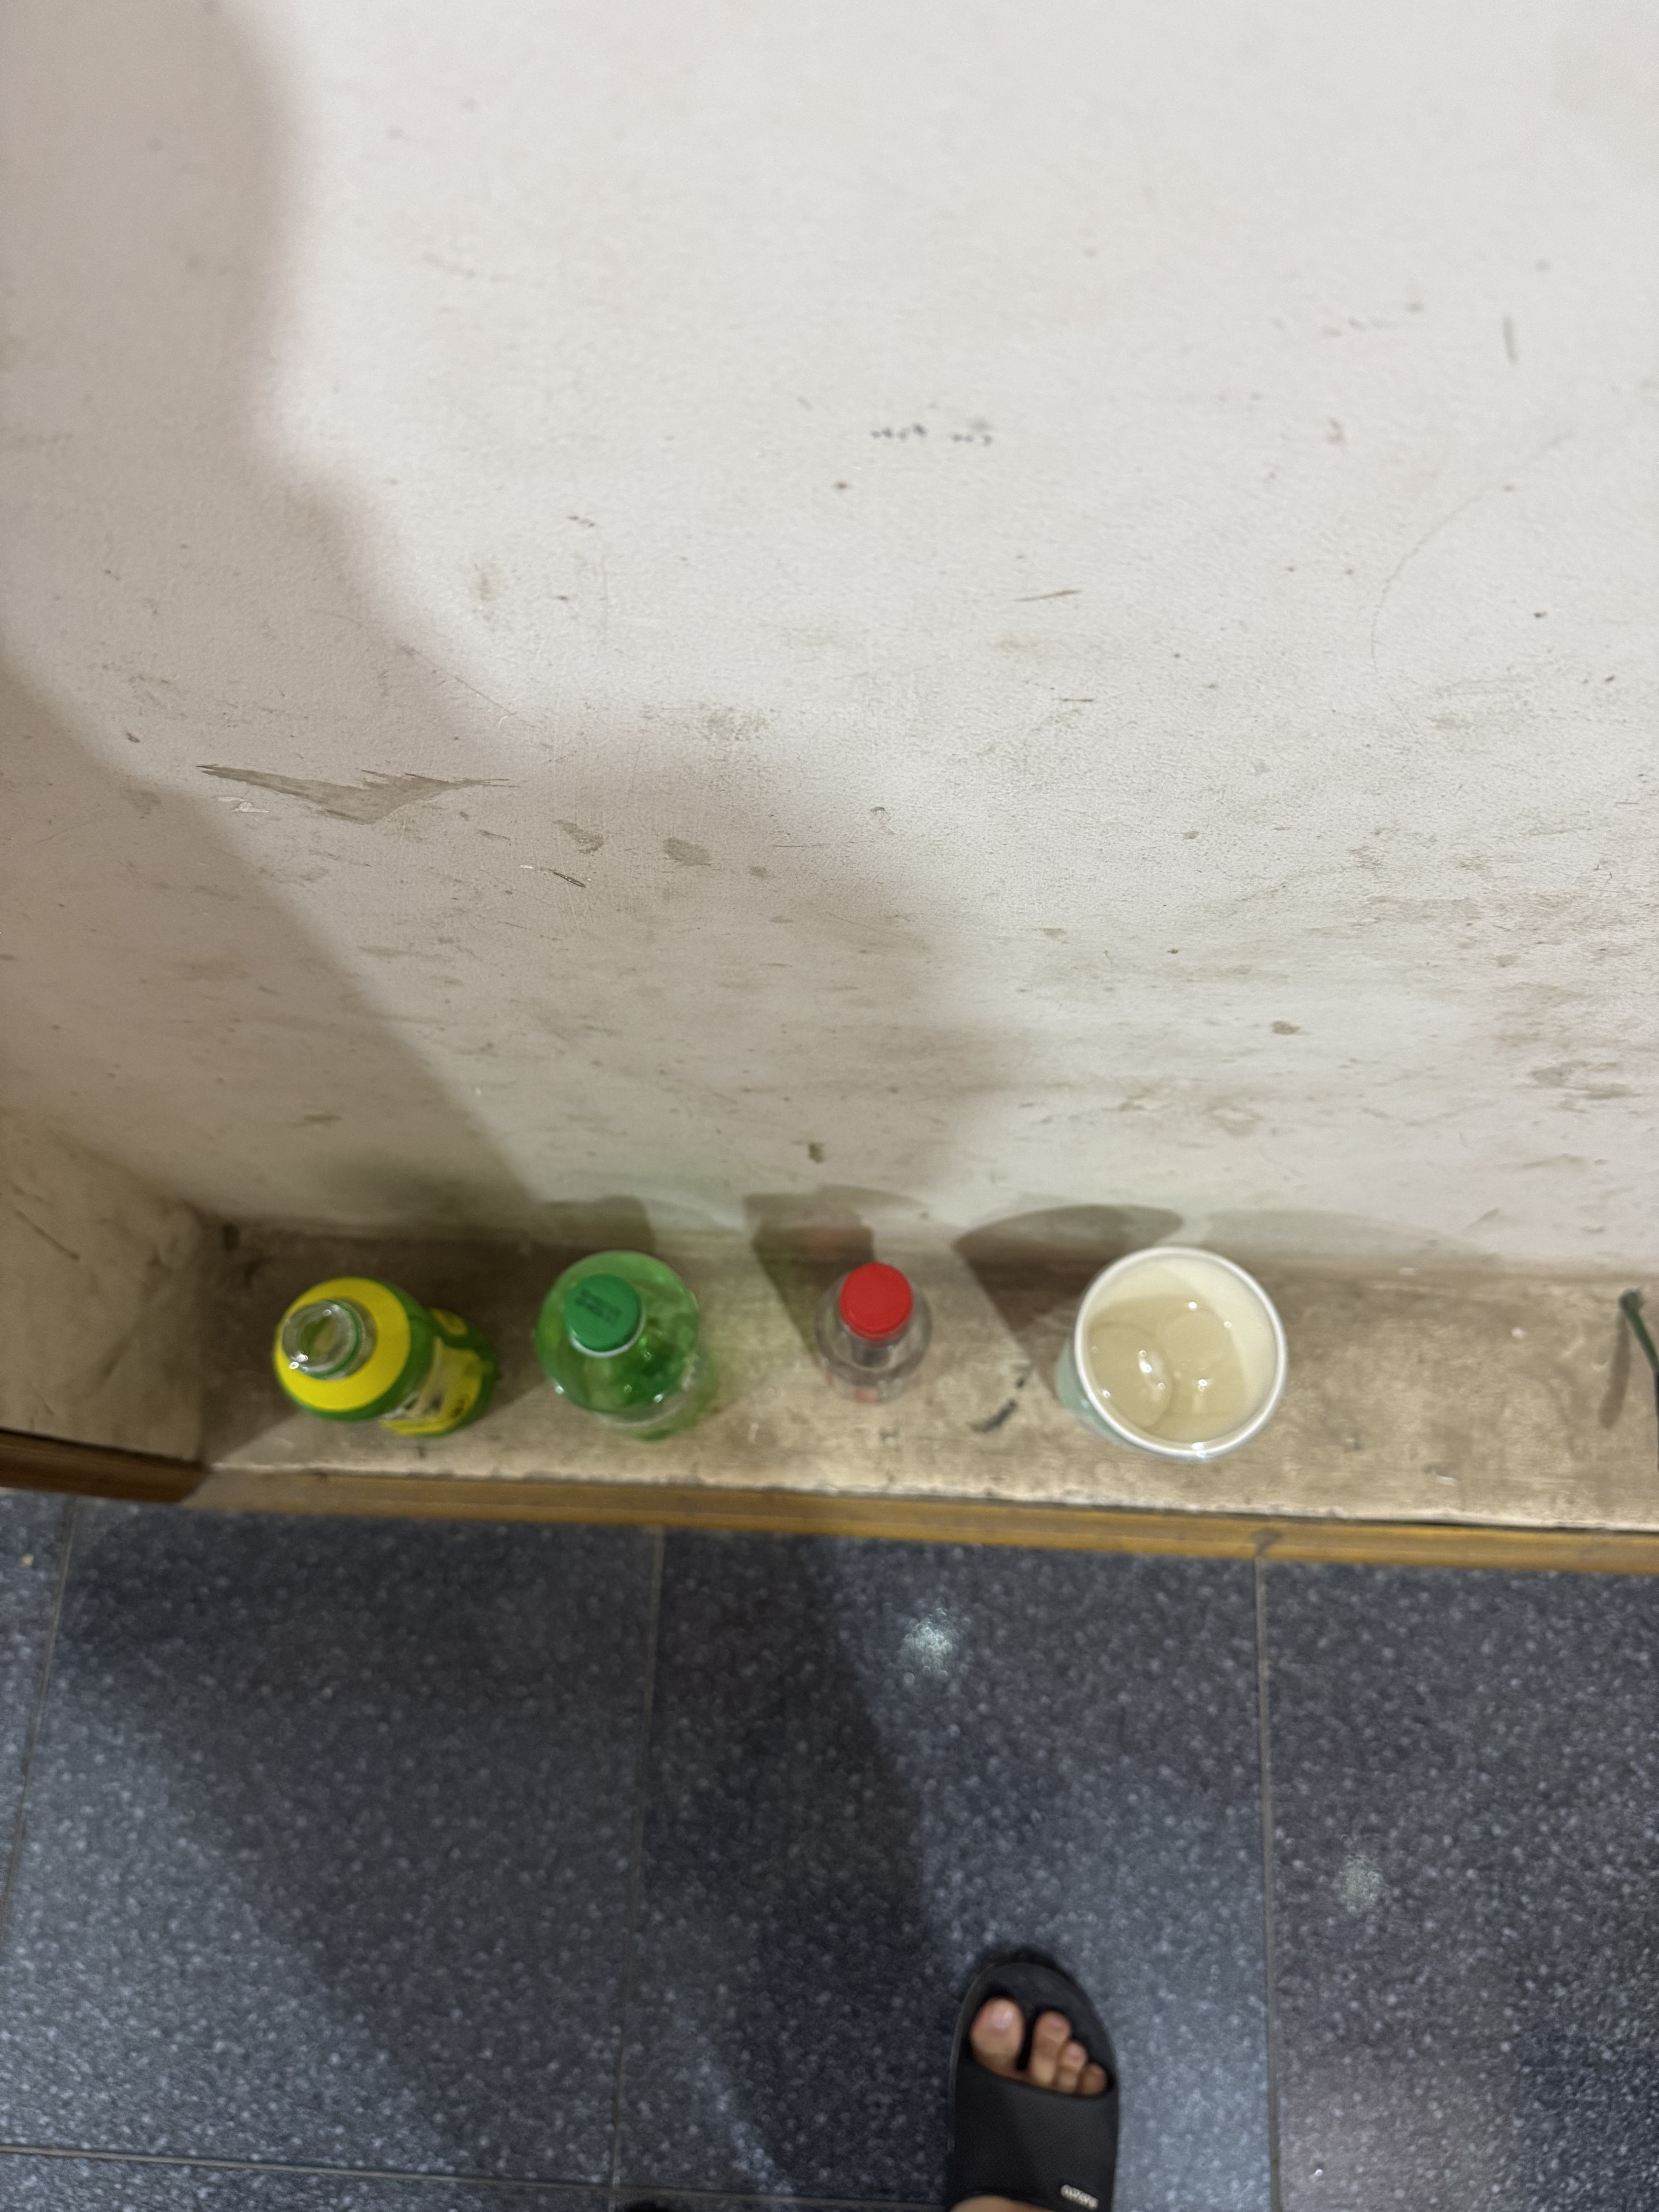2: (1004, 1224, 1321, 1540)
bottle: (249, 1223, 523, 1498), (493, 1219, 744, 1491), (777, 1230, 974, 1453)
